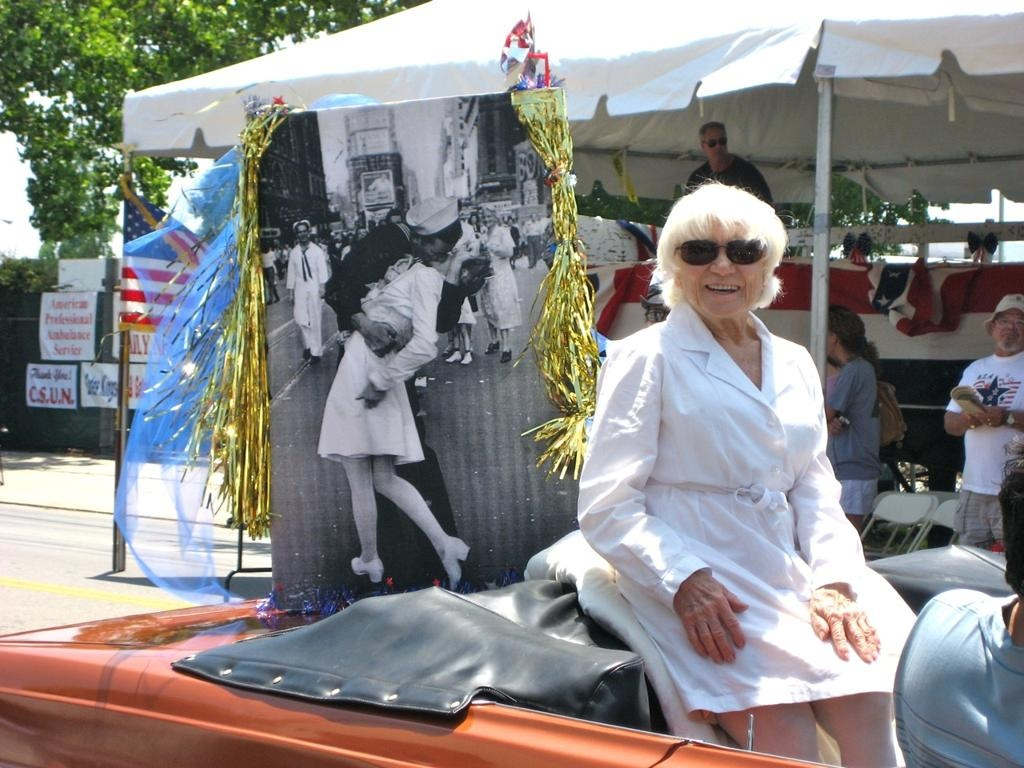human_face: (676, 214, 764, 318), (990, 306, 1024, 352), (420, 236, 450, 262), (700, 129, 726, 159), (817, 321, 837, 353), (426, 252, 460, 270), (480, 211, 492, 227), (296, 225, 306, 242)
